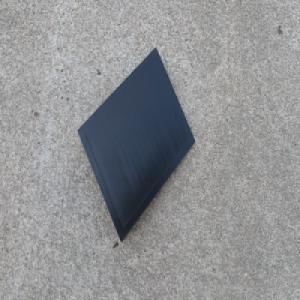PlasticPart: (75, 46, 195, 245)
